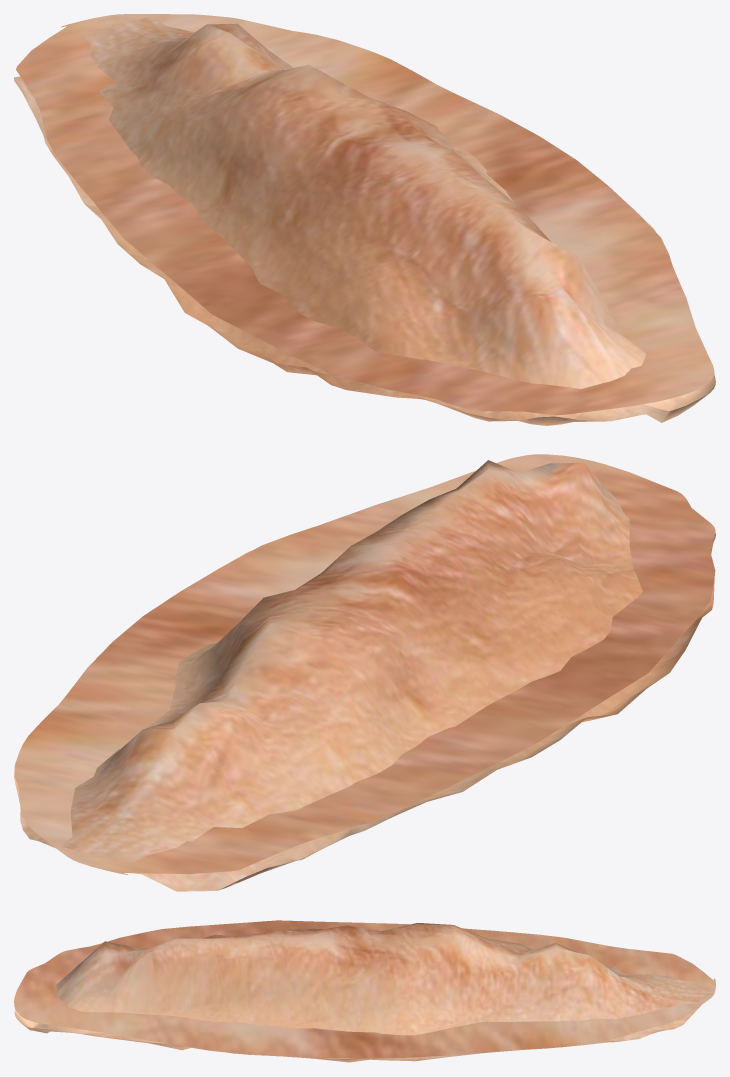
Rendered from ScarModel.fbx.
3 views of the same model, one above another, from view 1: azimuth 30°, elevation 25°; view 2: azimuth 150°, elevation 25°; view 3: azimuth 270°, elevation 25° (orthographic). The views are drawn at different scales.
Parts seen in each view (by area): view 1: nurbsToPoly1, planarTrimmedSurface1; view 2: nurbsToPoly1, planarTrimmedSurface1; view 3: nurbsToPoly1, planarTrimmedSurface1.
Part boxes in pixels (x1=…): nurbsToPoly1: x1=14, y1=14, x2=715, y2=425; planarTrimmedSurface1: x1=16, y1=14, x2=714, y2=414; nurbsToPoly1: x1=14, y1=460, x2=715, y2=891; planarTrimmedSurface1: x1=14, y1=454, x2=715, y2=874; nurbsToPoly1: x1=14, y1=923, x2=715, y2=1062; planarTrimmedSurface1: x1=14, y1=920, x2=715, y2=1058.
Size of the model in its own units: 10.65 by 3.02 by 22.76.
